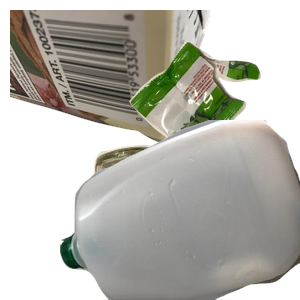cardboard: (10, 10, 213, 146)
glass: (91, 142, 260, 300)
plastic: (60, 120, 300, 300)
trash: (127, 39, 300, 193)
